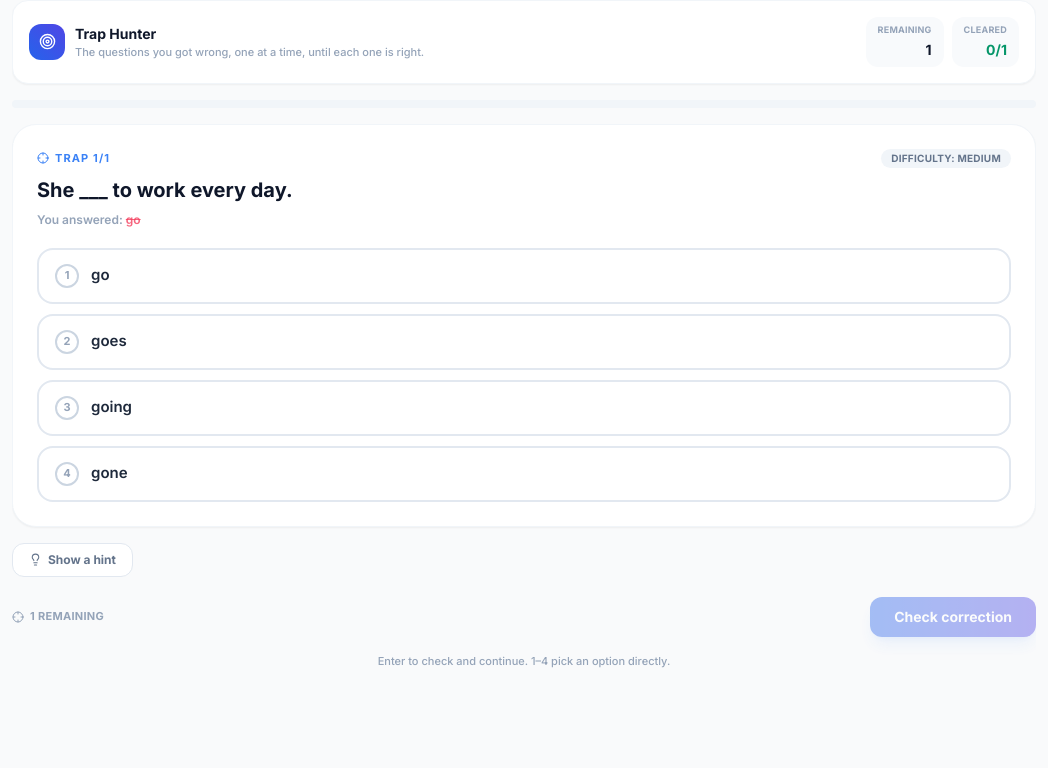
Test: explanations are authored or absent › renders nothing at all when none was written — never a generated substitute
Click the radio button labelled "2 goes" at (109, 341), box [37,314,1011,370]
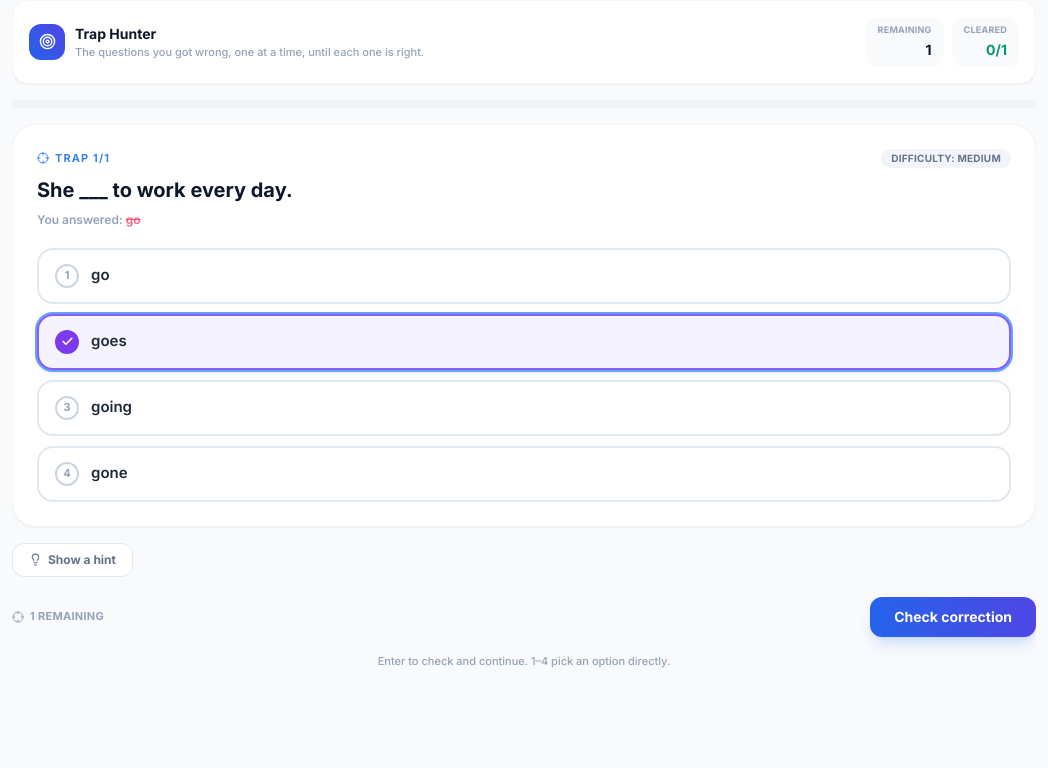
Click the button "Check correction" at (953, 616), box [870,596,1036,636]
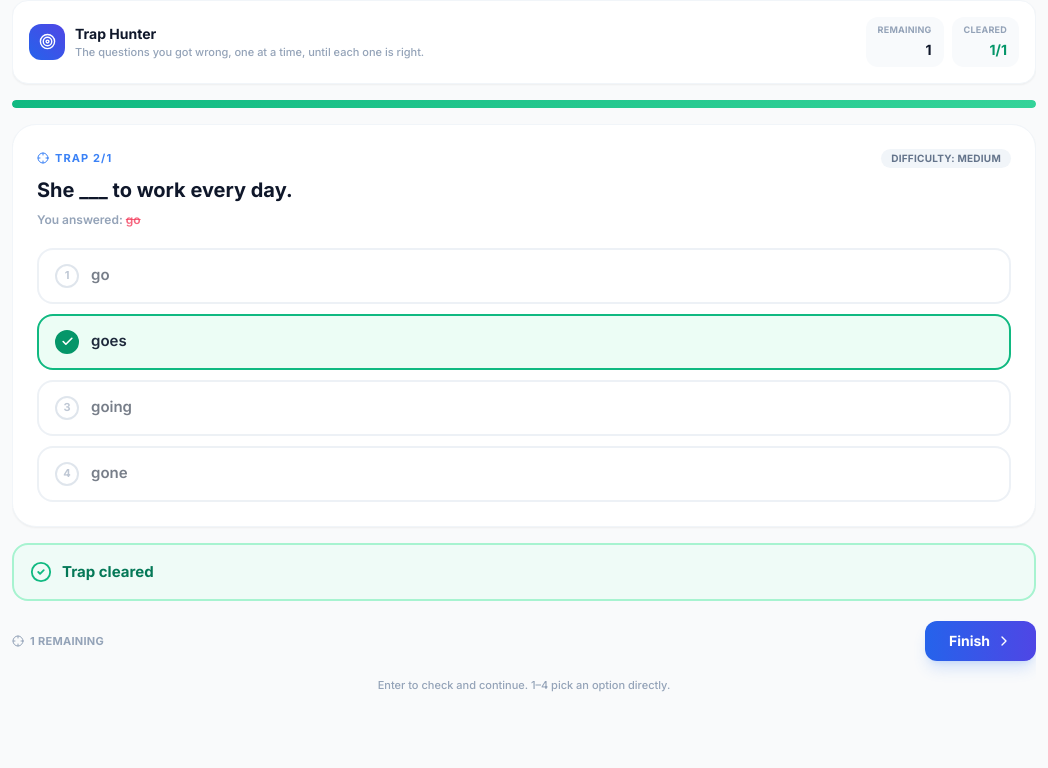
Expected: the text "Trap cleared" is shown, [62,560,154,583]
